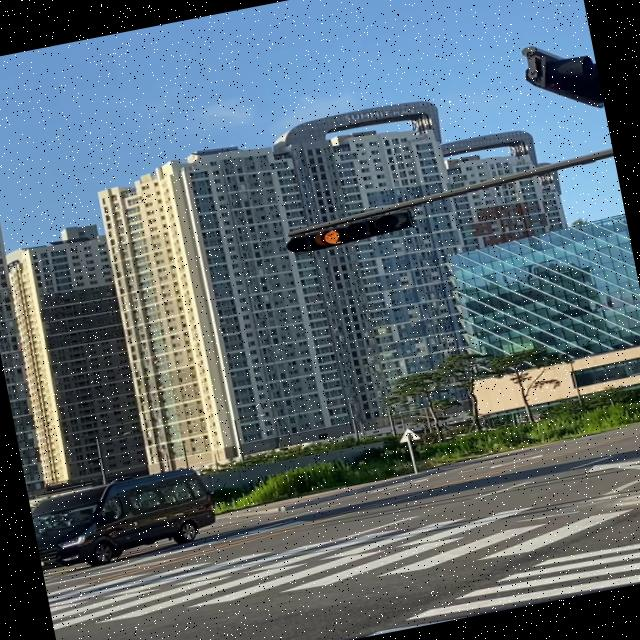yellow_light: (283, 208, 417, 258)
